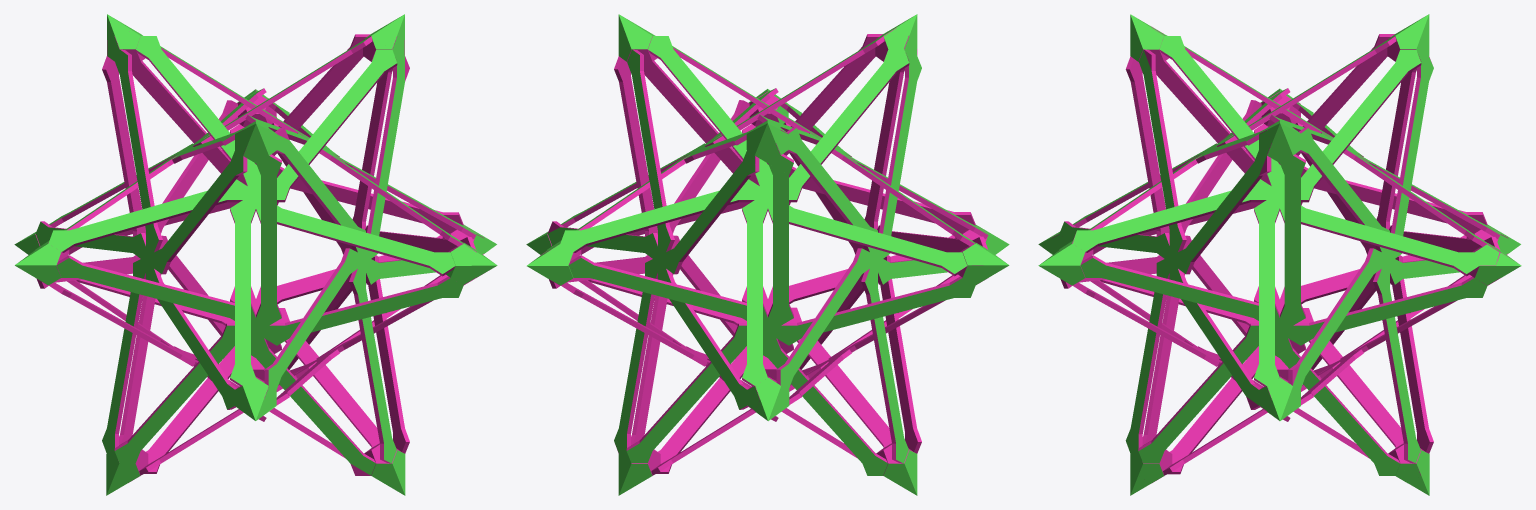
File: StarDodecahedronPolyknot.glb
3 renders of one model, left to right at view 1: azimuth 30°, elevation 25°; view 2: azimuth 150°, elevation 25°; view 3: azimuth 270°, elevation 25°, orthographic.
Parts seen in each view (by area): view 1: 3D_DA_VINCI_STELLATED_DODECAHEDRON_STRUT_1STEWART_CLUSTER_HO; view 2: 3D_DA_VINCI_STELLATED_DODECAHEDRON_STRUT_1STEWART_CLUSTER_HO; view 3: 3D_DA_VINCI_STELLATED_DODECAHEDRON_STRUT_1STEWART_CLUSTER_HO.
Part boxes in pixels (box(x1,y1,x2,y2)): 3D_DA_VINCI_STELLATED_DODECAHEDRON_STRUT_1STEWART_CLUSTER_HO: box(14, 14, 497, 495); 3D_DA_VINCI_STELLATED_DODECAHEDRON_STRUT_1STEWART_CLUSTER_HO: box(526, 14, 1009, 495); 3D_DA_VINCI_STELLATED_DODECAHEDRON_STRUT_1STEWART_CLUSTER_HO: box(1038, 14, 1521, 495).
Bounding box in the file's own units: 124 × 100 × 107.
